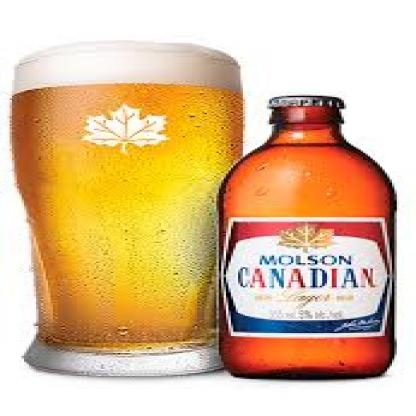trash: (12, 41, 242, 375), (219, 96, 395, 375)
